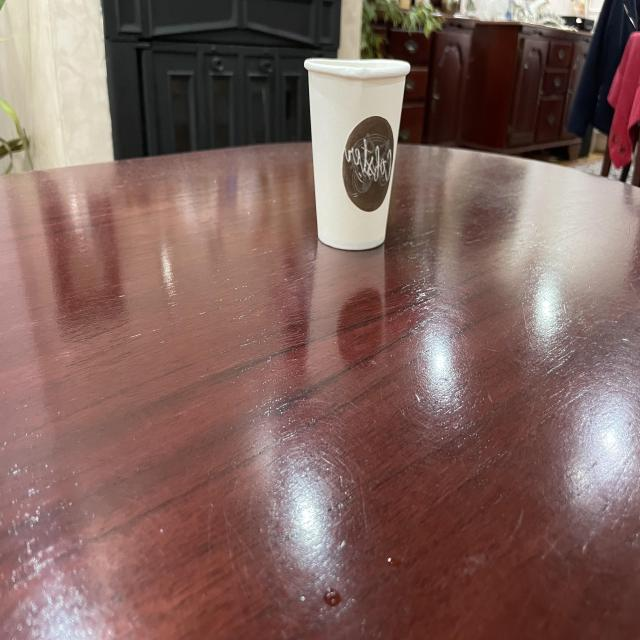medium: (289, 51, 419, 261)
